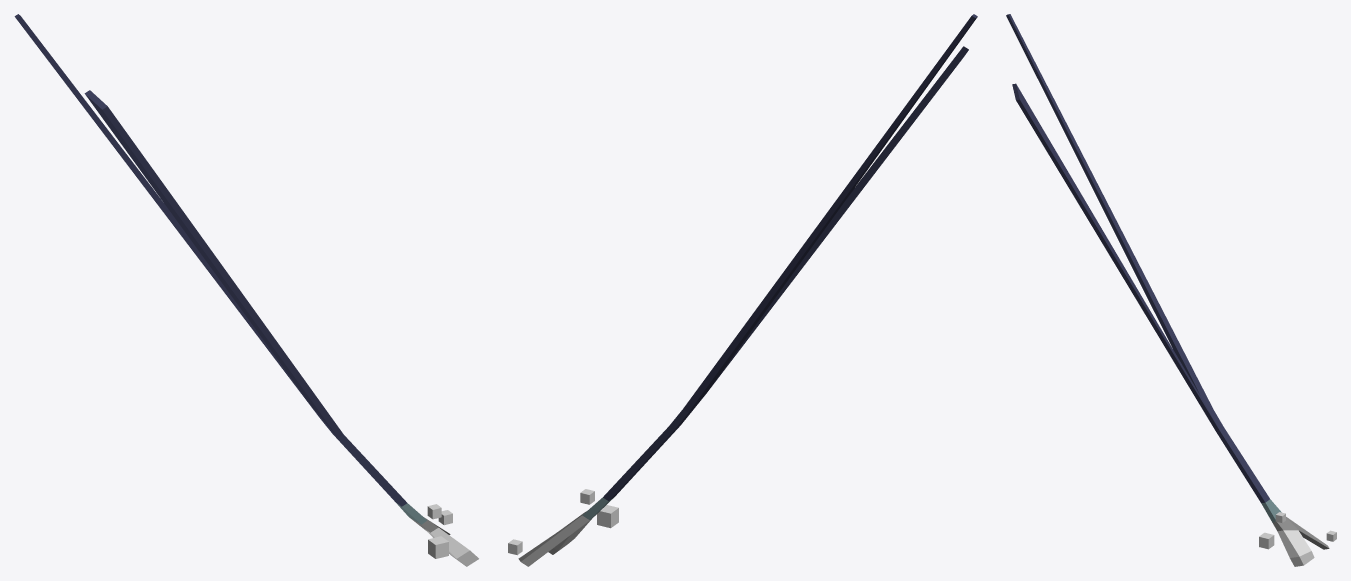
File: decoration_spiderweb03.fbx
The picture shows the model from 3 angles, left to right: view 1: azimuth 30°, elevation 25°; view 2: azimuth 150°, elevation 25°; view 3: azimuth 330°, elevation 25°; orthographic projection. The views are drawn at different scales.
Visible parts, largest first — view 1: spiderweb03, spiderweb03.001; view 2: spiderweb03, spiderweb03.001; view 3: spiderweb03, spiderweb03.001.
Part boxes in pixels (x1,y1,x2,y2): spiderweb03: (14,14,478,566); spiderweb03.001: (427,504,452,558); spiderweb03: (518,14,977,566); spiderweb03.001: (508,489,618,555); spiderweb03: (1006,14,1329,566); spiderweb03.001: (1259,512,1336,549).
Bounding box in the file's own units: 863 × 1182 × 160.
